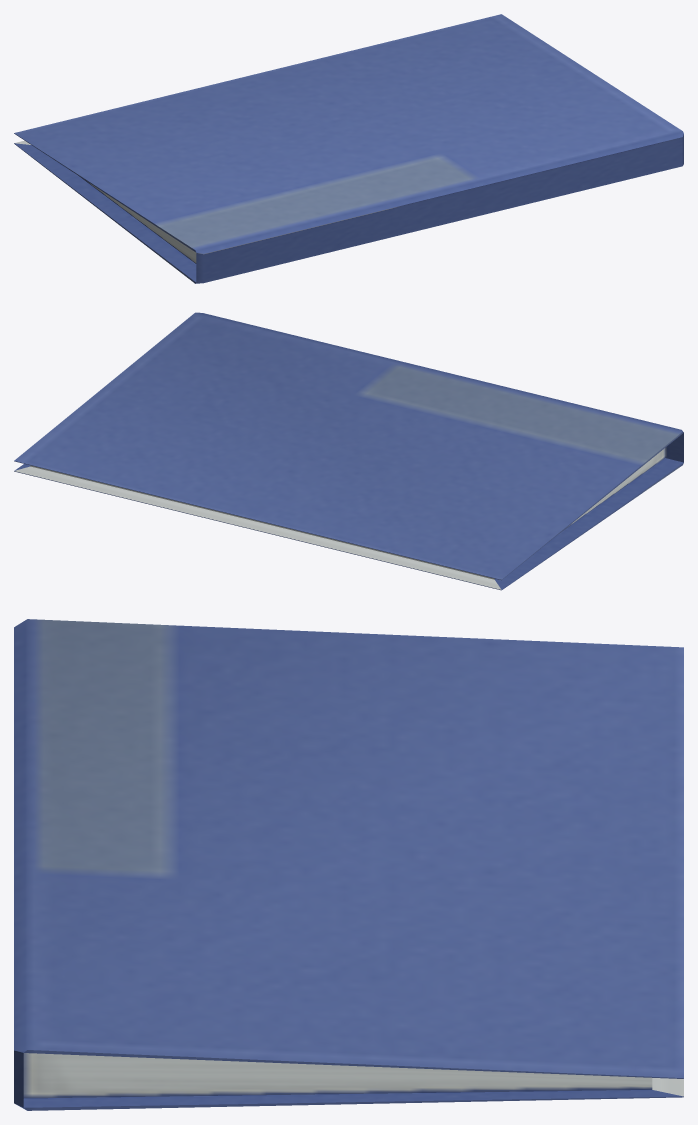
Rendered from ShaShouJia_01_wenjianjia_01.FBX.
The picture shows the model from 3 angles, top to bottom: view 1: azimuth 30°, elevation 25°; view 2: azimuth 150°, elevation 25°; view 3: azimuth 270°, elevation 25°; orthographic projection. The views are drawn at different scales.
Visible parts, largest first — view 1: ShaShouJia_01_wenjianjia_01; view 2: ShaShouJia_01_wenjianjia_01; view 3: ShaShouJia_01_wenjianjia_01.
Part boxes in pixels (x1,y1,x2,y2): ShaShouJia_01_wenjianjia_01: (14, 14, 683, 283); ShaShouJia_01_wenjianjia_01: (14, 312, 683, 590); ShaShouJia_01_wenjianjia_01: (14, 619, 683, 1110).
Size of the model in its own units: 282 by 18.63 by 185.
